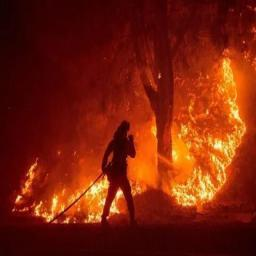Medium fire: (160, 28, 247, 213)
Small fire: (11, 155, 149, 224)
